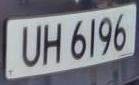1: (86, 14, 98, 60)
6: (69, 15, 89, 67), (112, 11, 130, 54)
9: (96, 13, 113, 57)
H: (43, 18, 65, 70)
U: (20, 21, 43, 71)
